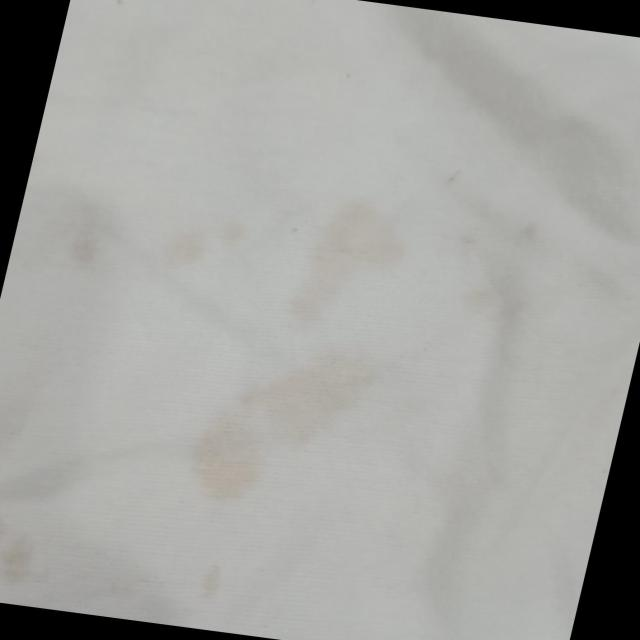stain: (182, 326, 391, 515), (273, 184, 418, 338), (156, 196, 268, 279), (0, 478, 57, 591), (66, 201, 120, 271)
